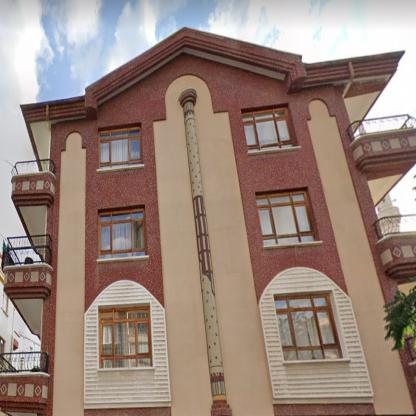window: (275, 295, 342, 359), (256, 191, 316, 246), (99, 307, 152, 367), (98, 208, 146, 258), (243, 108, 295, 151), (100, 128, 142, 168)
